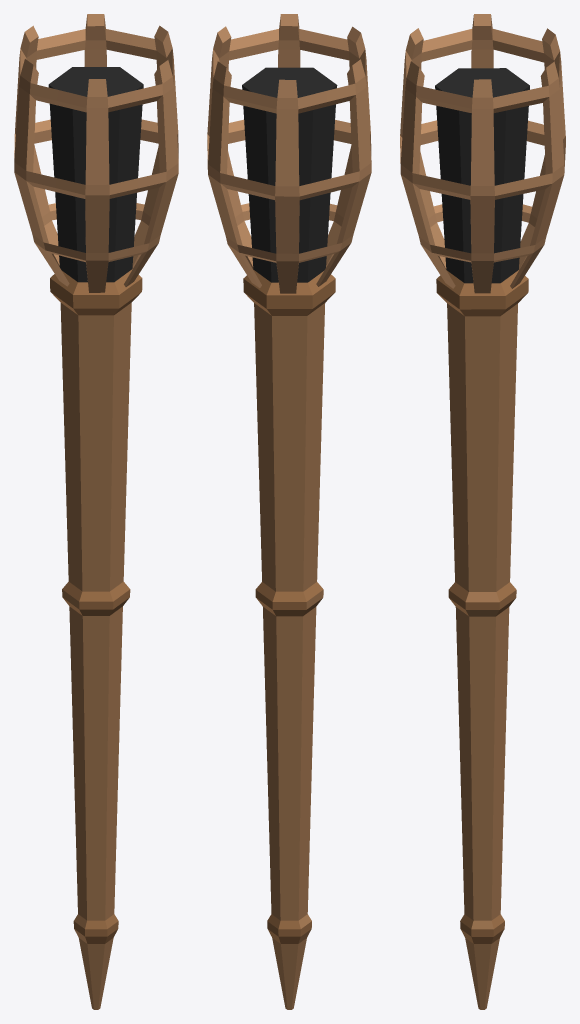
File: Torch_01.fbx
The picture shows the model from 3 angles, left to right: view 1: azimuth 30°, elevation 25°; view 2: azimuth 150°, elevation 25°; view 3: azimuth 270°, elevation 25°; orthographic projection.
Parts seen in each view (by area): view 1: Torch_01; view 2: Torch_01; view 3: Torch_01.
Boxes of the visible parts, x1,y1,x2,y2 form: Torch_01: (14, 14, 178, 1009); Torch_01: (207, 14, 371, 1009); Torch_01: (400, 14, 565, 1009).
Size of the model in its own units: 20.56 by 124 by 19.41.
